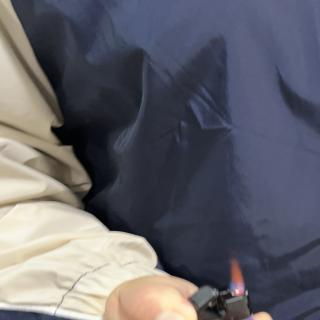fire: (228, 260, 246, 296)
